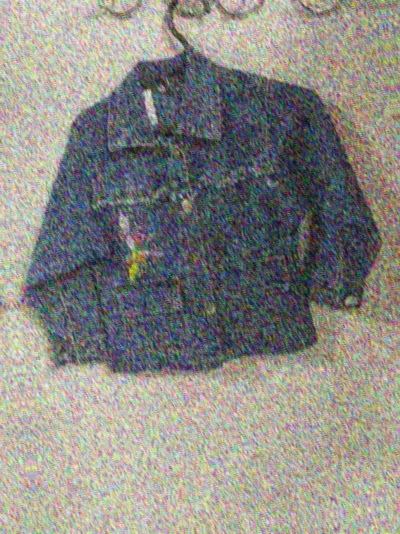Blazer: (0, 0, 391, 396), (0, 45, 10, 442)
